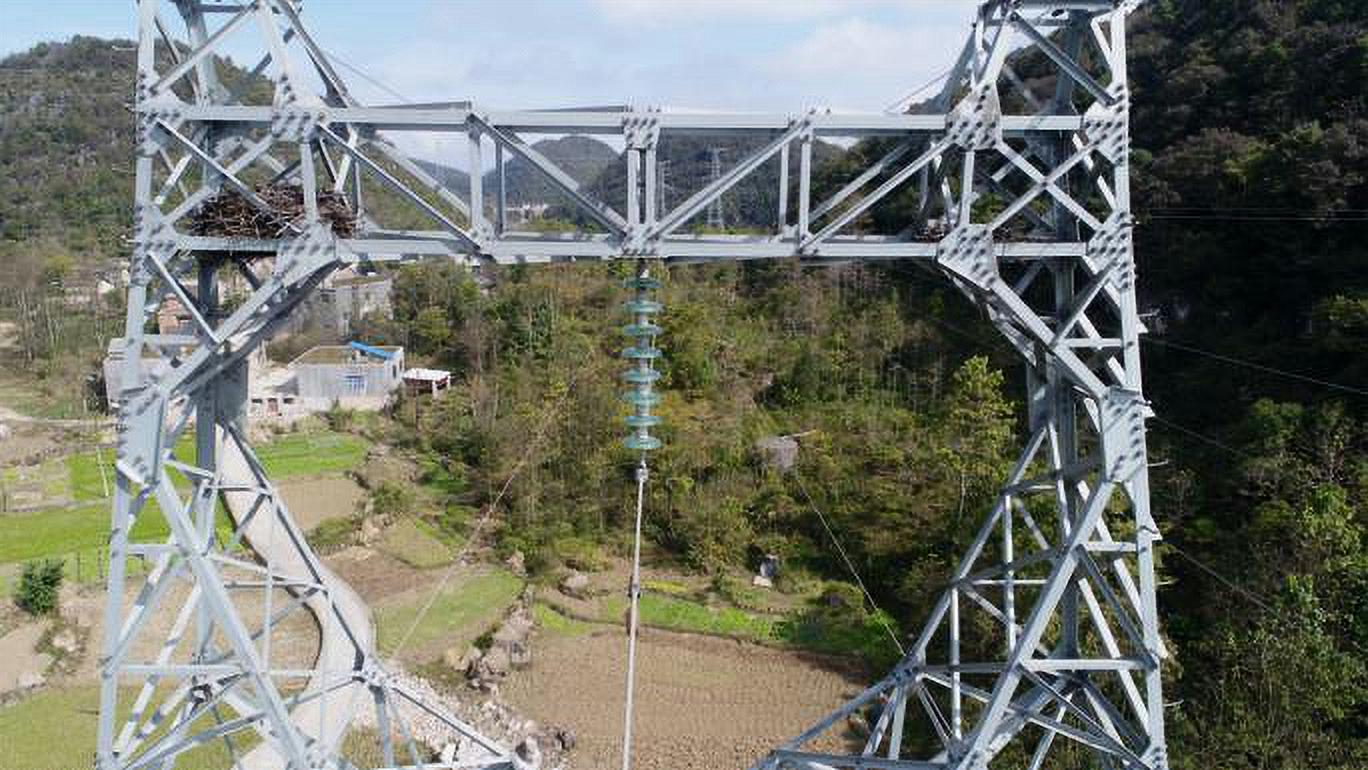insulator: (615, 269, 667, 461)
